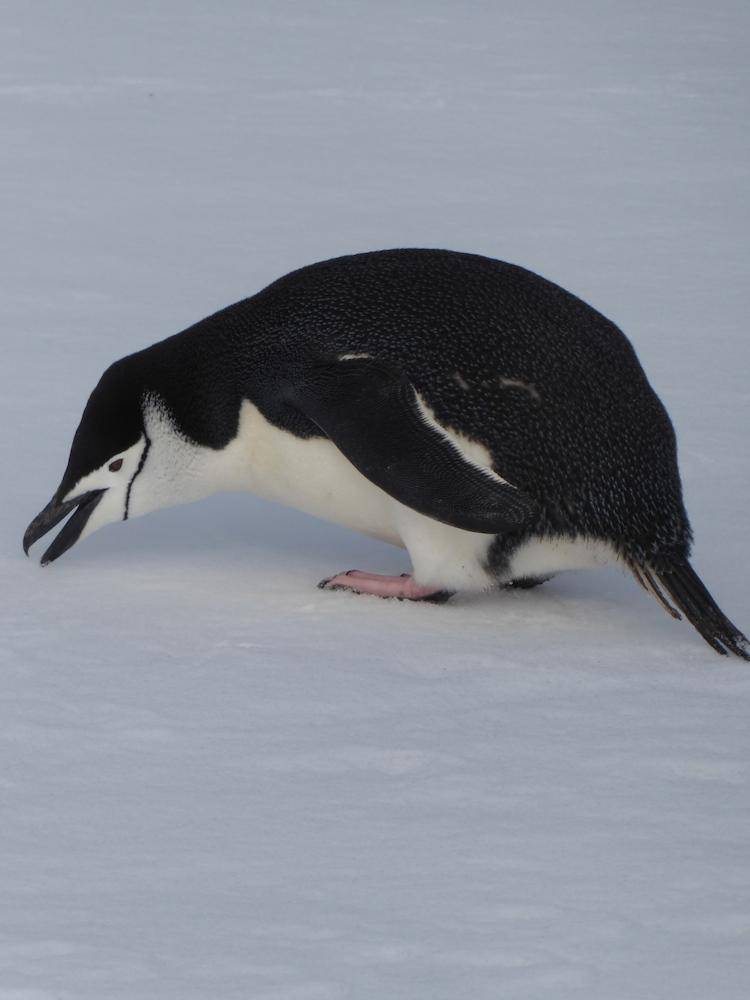chinstrap: (1, 210, 750, 798)
